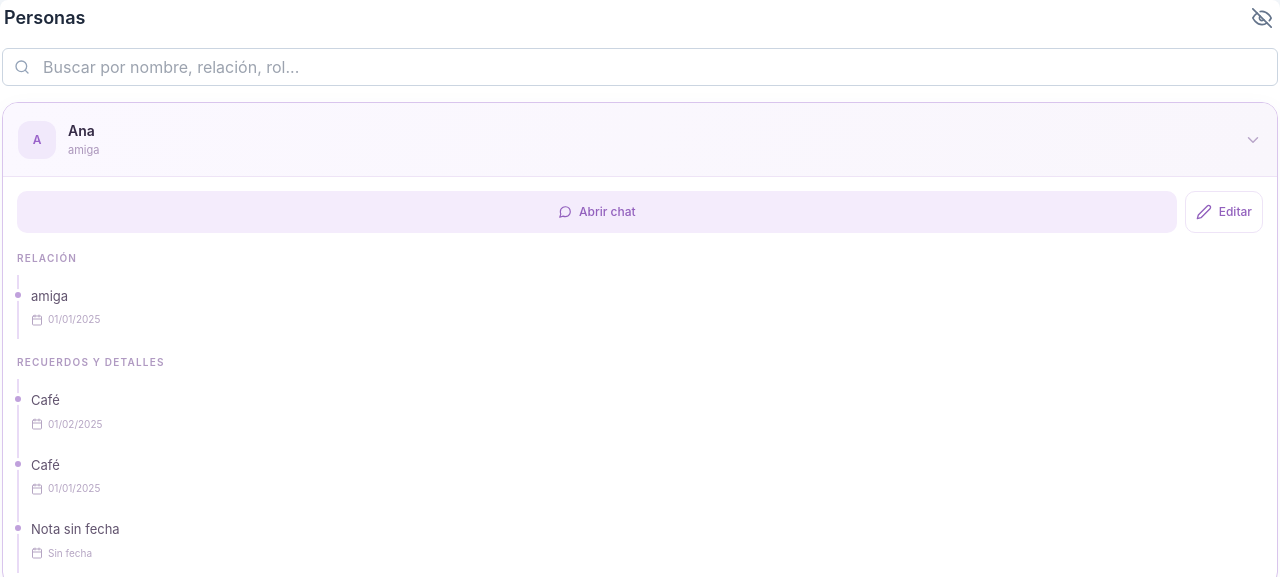
Test: keeps the editable draft and reports a concurrent save conflict
The image size is (1280, 577).
Click the button "Editar" at (1224, 212), box [1185,191,1263,233]
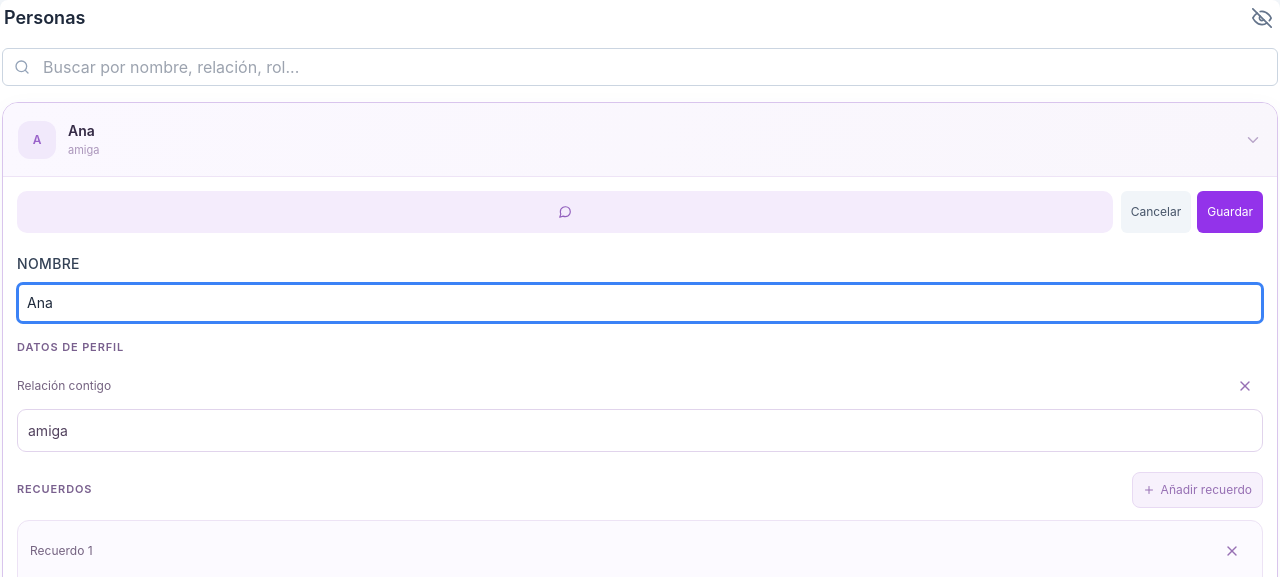
Click the button "Guardar" at (1230, 212), box [1197,191,1263,233]
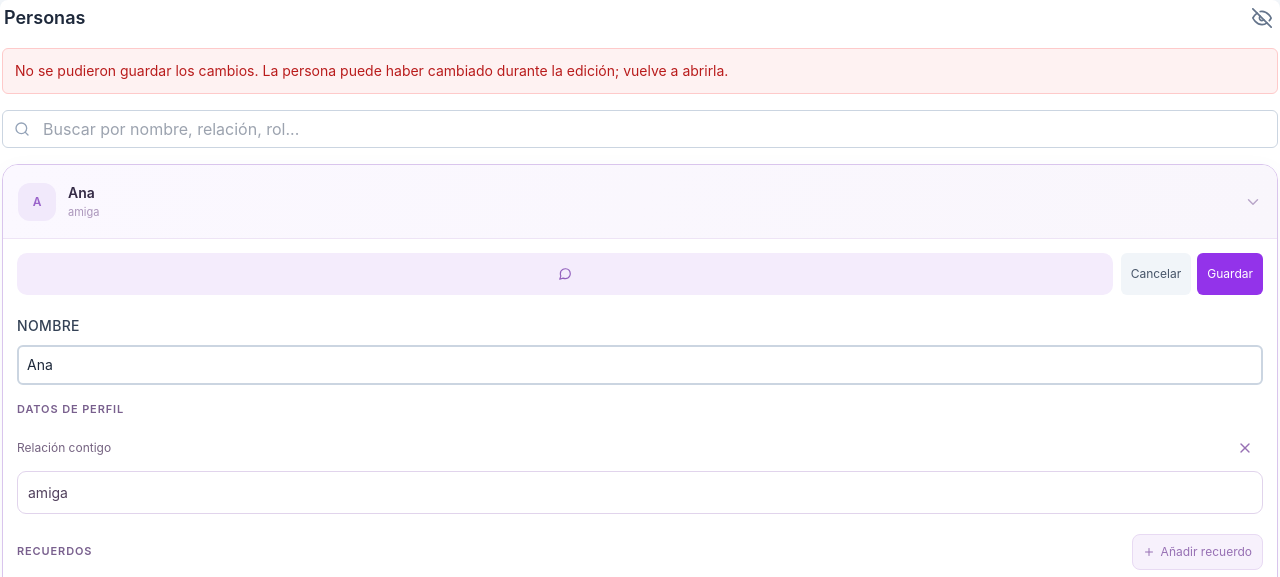
Expected: the field named "Información sobre relacion" is shown, [17,470,1263,514]
Expected: the text "La persona puede haber cambiado" is shown, [15,62,728,79]
